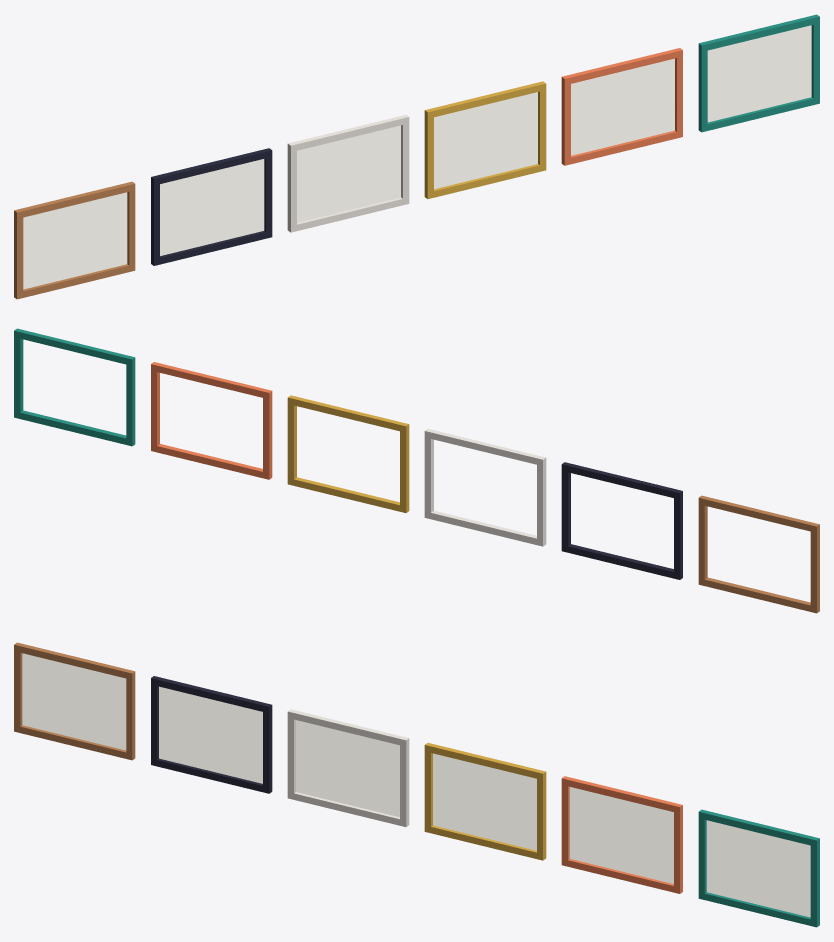
Rendered from cornici_campione.glb.
3 views of the same model, one above another, from view 1: azimuth 30°, elevation 25°; view 2: azimuth 150°, elevation 25°; view 3: azimuth 330°, elevation 25° (orthographic).
Visible parts, largest first — view 1: Cornice_Gold, Cornice_White, Cornice_Teal, Cornice_Wood, Cornice_Black, Cornice_Coral; view 2: Cornice_Gold, Cornice_White, Cornice_Teal, Cornice_Wood, Cornice_Black, Cornice_Coral; view 3: Cornice_Gold, Cornice_White, Cornice_Teal, Cornice_Wood, Cornice_Black, Cornice_Coral.
Part boxes in pixels (box(x1,y1,x2,y2)): Cornice_Gold: box(424, 81, 546, 198); Cornice_White: box(287, 115, 409, 232); Cornice_Teal: box(698, 14, 819, 132); Cornice_Wood: box(14, 181, 135, 299); Cornice_Black: box(151, 148, 272, 265); Cornice_Coral: box(561, 48, 682, 165); Cornice_Gold: box(287, 395, 409, 512); Cornice_White: box(424, 429, 546, 546); Cornice_Teal: box(14, 328, 135, 446); Cornice_Wood: box(698, 495, 819, 613); Cornice_Black: box(561, 462, 682, 579); Cornice_Coral: box(151, 362, 272, 479); Cornice_Gold: box(424, 743, 546, 860); Cornice_White: box(287, 709, 409, 826); Cornice_Teal: box(698, 809, 819, 927); Cornice_Wood: box(14, 642, 135, 760); Cornice_Black: box(151, 676, 272, 793); Cornice_Coral: box(561, 776, 682, 893).
Size of the model in its own units: 9.09 by 0.94 by 0.06.
